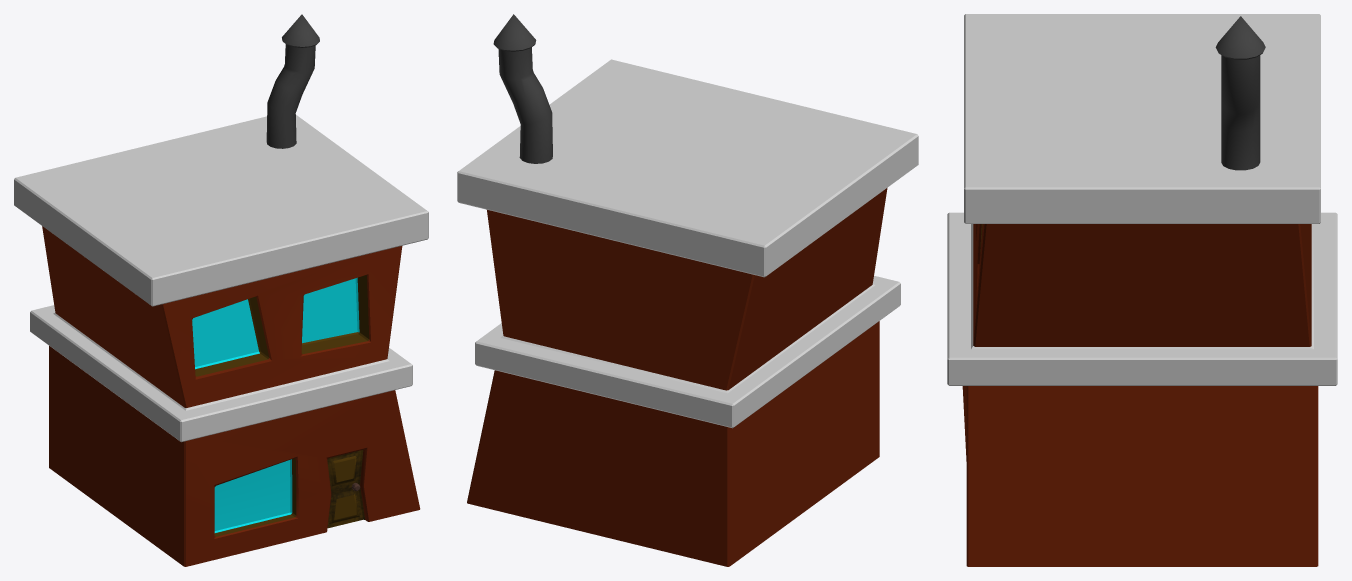
Rendered from PredioPequeno-VermelhoEscuroLOD0.fbx.
3 renders of one model, left to right at view 1: azimuth 30°, elevation 25°; view 2: azimuth 150°, elevation 25°; view 3: azimuth 270°, elevation 25°, orthographic. The views are drawn at different scales.
Parts seen in each view (by area): view 1: Predio2Andares; view 2: Predio2Andares; view 3: Predio2Andares.
Part boxes in pixels (x1=…): Predio2Andares: x1=14, y1=14, x2=428, y2=566; Predio2Andares: x1=457, y1=14, x2=918, y2=566; Predio2Andares: x1=947, y1=14, x2=1337, y2=566.
Bounding box in the file's own units: 715 × 1035 × 675.
